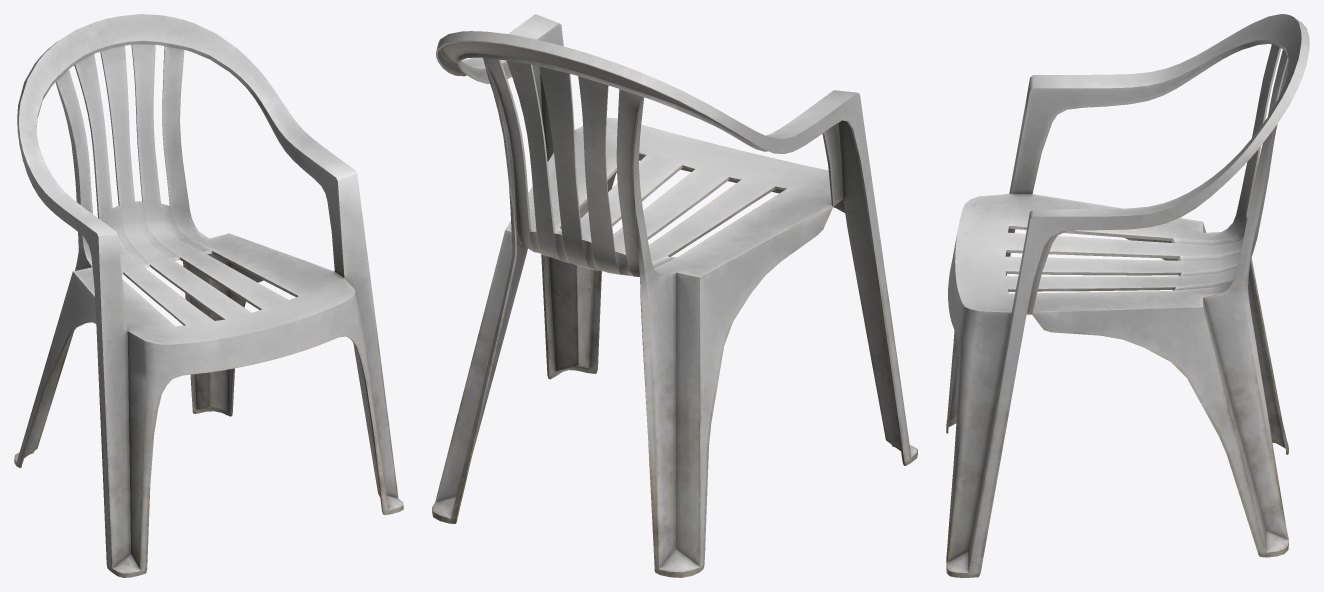
The model's file is plastic_monobloc_chair_01.glb.
3 views of the same model, side by side, from view 1: azimuth 30°, elevation 25°; view 2: azimuth 150°, elevation 25°; view 3: azimuth 270°, elevation 25° (orthographic). The views are drawn at different scales.
Parts seen in each view (by area): view 1: plastic_monobloc_chair_01; view 2: plastic_monobloc_chair_01; view 3: plastic_monobloc_chair_01.
Part boxes in pixels (box(x1,y1,x2,y2)): plastic_monobloc_chair_01: box(14, 14, 403, 577); plastic_monobloc_chair_01: box(432, 14, 917, 577); plastic_monobloc_chair_01: box(946, 14, 1309, 577).
Bounding box in the file's own units: 0.6419 × 0.8798 × 0.6276.
1 material, 1 textured.
